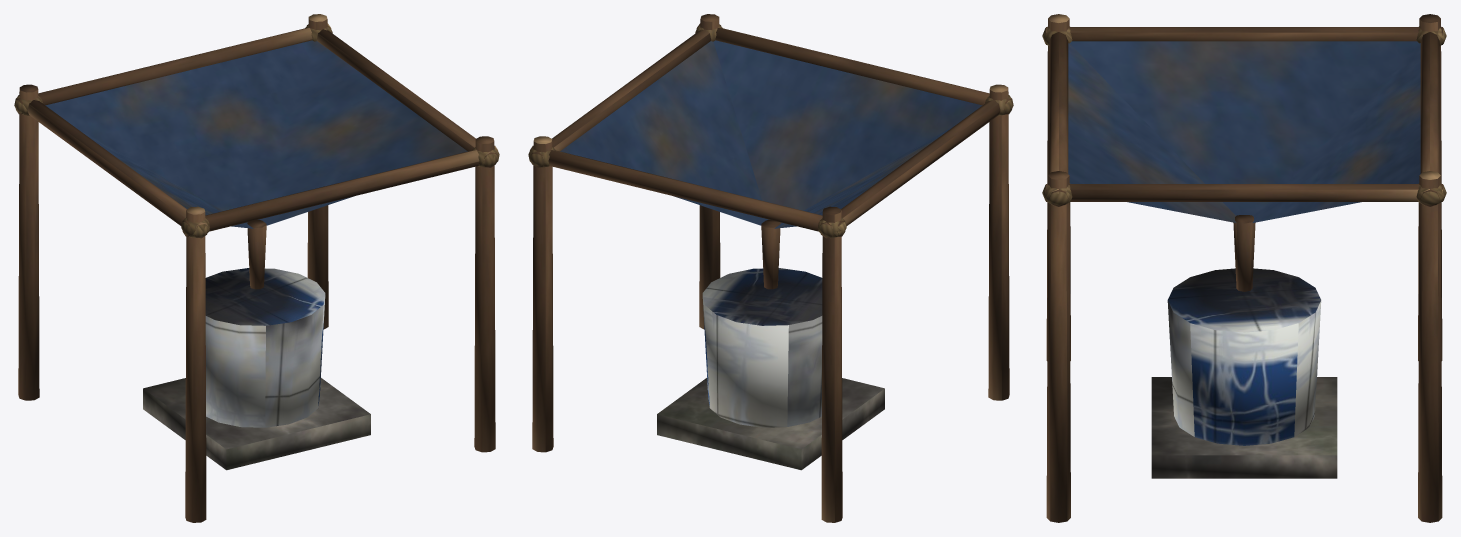
The model's file is water_collector.glb.
The picture shows the model from 3 angles, left to right: view 1: azimuth 30°, elevation 25°; view 2: azimuth 150°, elevation 25°; view 3: azimuth 270°, elevation 25°; orthographic projection. The views are drawn at different scales.
Visible parts, largest first — view 1: Water_Collector; view 2: Water_Collector; view 3: Water_Collector.
Part boxes in pixels (x1,y1,x2,y2): Water_Collector: [14, 14, 499, 522]; Water_Collector: [528, 14, 1013, 522]; Water_Collector: [1042, 14, 1446, 522].
Size of what is drawn, in the model's own units: 1.26 by 1.18 by 1.26.
5 materials, 5 textured.
